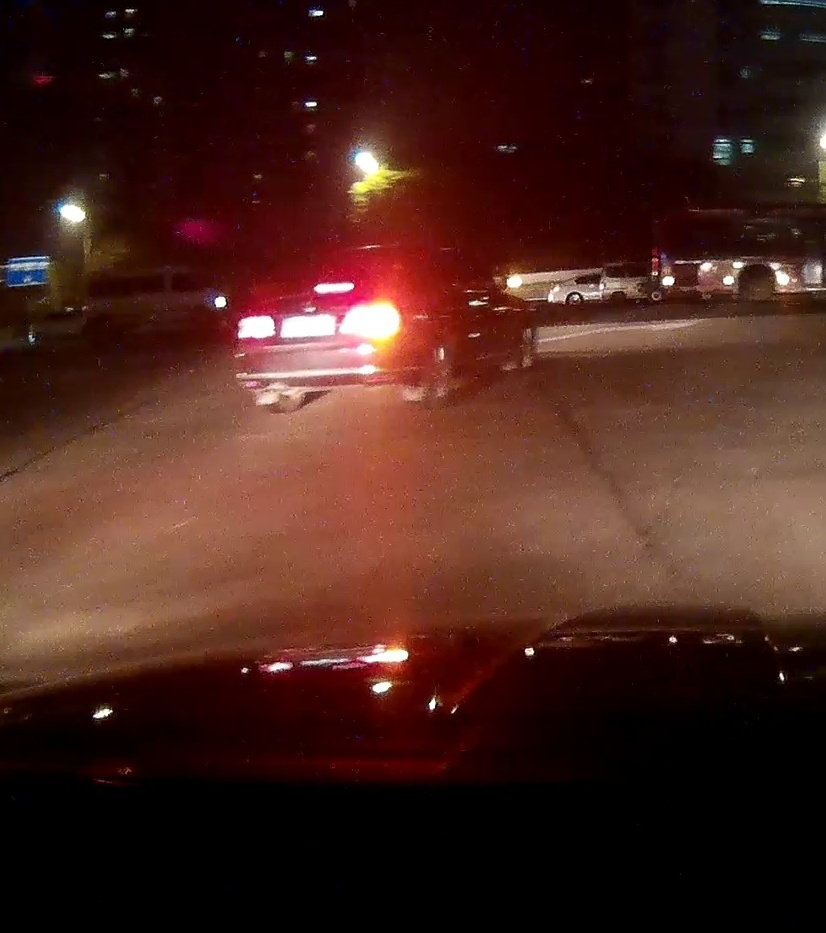L_light: (238, 316, 279, 342)
R_light: (342, 304, 403, 338)
T_light: (313, 281, 354, 294)
night-right: (233, 247, 432, 411)
